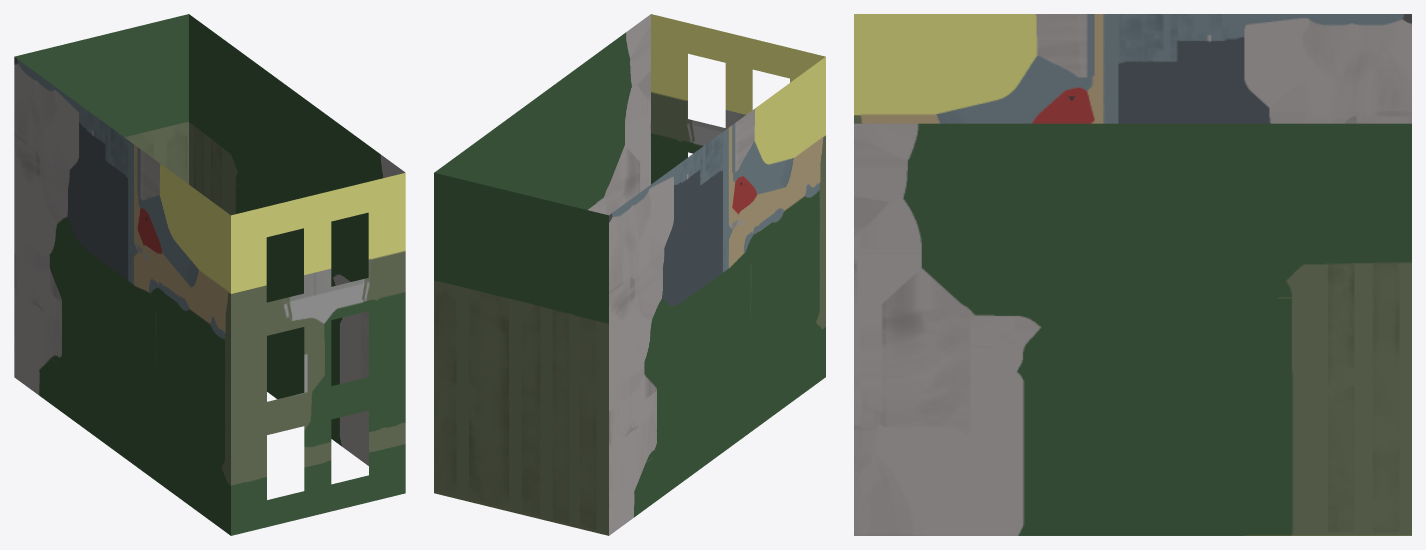
File: 2W_3F_building_body.fbx
The picture shows the model from 3 angles, left to right: view 1: azimuth 30°, elevation 25°; view 2: azimuth 150°, elevation 25°; view 3: azimuth 270°, elevation 25°; orthographic projection. The views are drawn at different scales.
Visible parts, largest first — view 1: Object138; view 2: Object138; view 3: Object138.
Boxes of the visible parts, bbox=[...] form: Object138: bbox=[14, 14, 405, 535]; Object138: bbox=[434, 14, 825, 535]; Object138: bbox=[854, 14, 1411, 535].
Bounding box in the file's own units: 1290 × 2261 × 2772.
